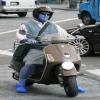motorcycles: (13, 33, 82, 97)
